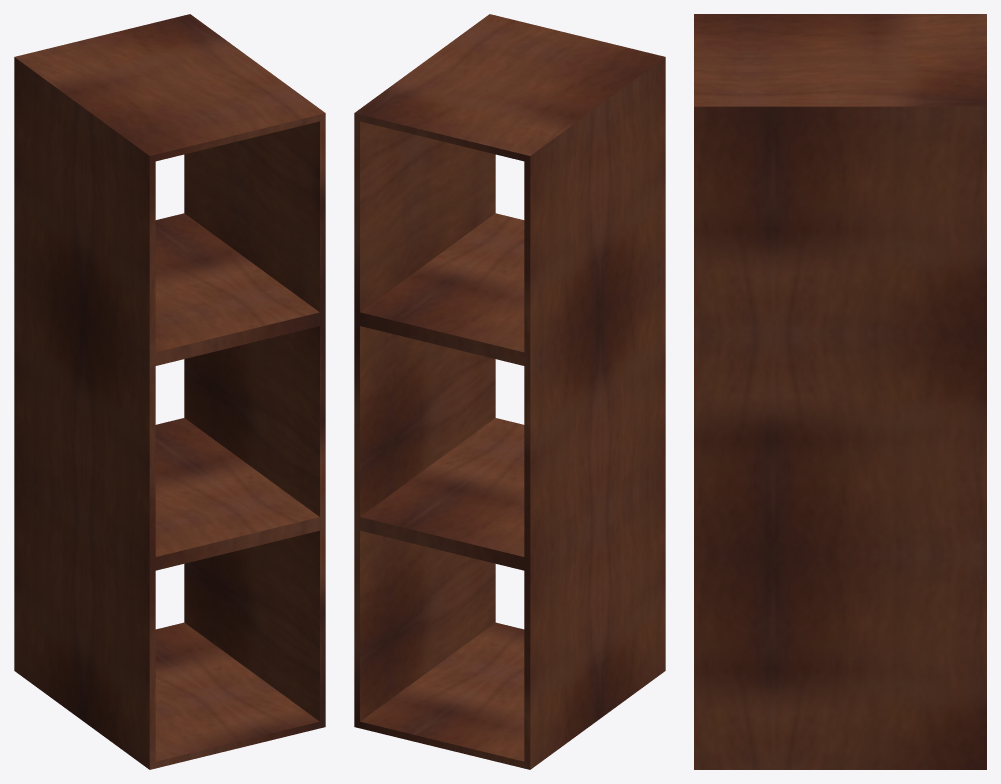
The model's file is Shelf30_FBX.fbx.
3 renders of one model, left to right at view 1: azimuth 30°, elevation 25°; view 2: azimuth 150°, elevation 25°; view 3: azimuth 270°, elevation 25°, orthographic. The views are drawn at different scales.
Visible parts, largest first — view 1: pCube3; view 2: pCube3; view 3: pCube3.
Boxes of the visible parts, x1,y1,x2,y2 form: pCube3: [14, 14, 325, 769]; pCube3: [354, 14, 665, 769]; pCube3: [694, 14, 986, 769].
Size of the model in its own units: 3 by 10 by 4.
